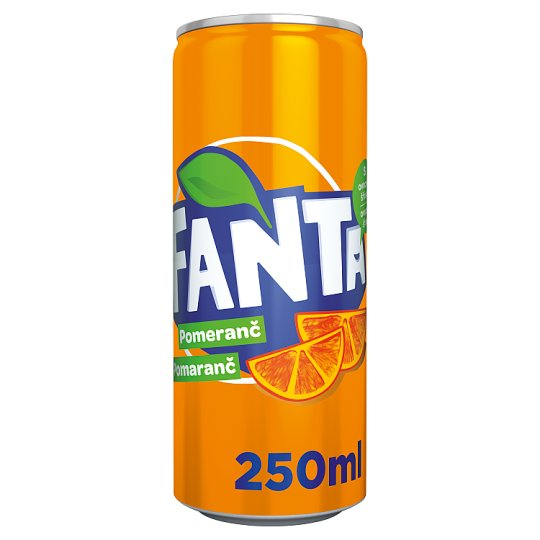Fanta: (131, 20, 383, 528)
